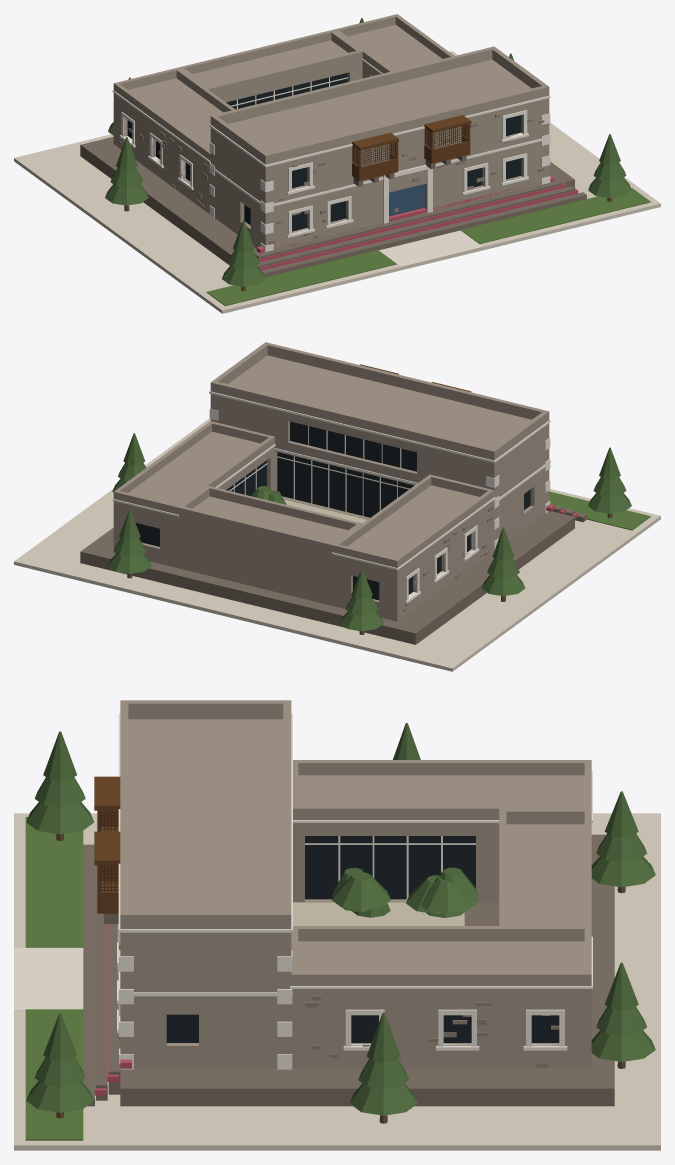
The model's file is taifi.glb.
3 views of the same model, one above another, from view 1: azimuth 30°, elevation 25°; view 2: azimuth 150°, elevation 25°; view 3: azimuth 270°, elevation 25° (orthographic). The views are drawn at different scales.
Parts seen in each view (by area): view 1: Taifi_granite, Taifi_pave, Taifi_granite_d, Taifi_white, Taifi_lawn, Taifi_leaf, Taifi_glass, Taifi_rose, Taifi_wood, Taifi_coping, Taifi_lattice, Taifi_rubble (+1 smaller); view 2: Taifi_granite, Taifi_pave, Taifi_granite_d, Taifi_glass, Taifi_leaf, Taifi_white, Taifi_lawn, Taifi_frame; view 3: Taifi_granite, Taifi_pave, Taifi_granite_d, Taifi_leaf, Taifi_lawn, Taifi_glass, Taifi_white, Taifi_coping, Taifi_wood, Taifi_court, Taifi_frame, Taifi_rose (+1 smaller).
Boxes of the visible parts, x1=… form: Taifi_granite: x1=113, y1=14, x2=549, y2=249; Taifi_pave: x1=14, y1=51, x2=660, y2=313; Taifi_granite_d: x1=80, y1=137, x2=586, y2=277; Taifi_white: x1=112, y1=58, x2=550, y2=251; Taifi_lawn: x1=206, y1=188, x2=650, y2=306; Taifi_leaf: x1=105, y1=18, x2=631, y2=286; Taifi_glass: x1=127, y1=73, x2=521, y2=231; Taifi_rose: x1=256, y1=175, x2=578, y2=270; Taifi_wood: x1=352, y1=115, x2=471, y2=181; Taifi_coping: x1=379, y1=230, x2=482, y2=266; Taifi_lattice: x1=352, y1=125, x2=468, y2=165; Taifi_rubble: x1=119, y1=113, x2=544, y2=245; Taifi_granite: x1=113, y1=342, x2=549, y2=621; Taifi_pave: x1=14, y1=418, x2=660, y2=671; Taifi_granite_d: x1=80, y1=504, x2=586, y2=644; Taifi_glass: x1=135, y1=421, x2=530, y2=600; Taifi_leaf: x1=108, y1=433, x2=631, y2=631; Taifi_white: x1=112, y1=390, x2=550, y2=603; Taifi_lawn: x1=549, y1=491, x2=650, y2=530; Taifi_frame: x1=229, y1=426, x2=414, y2=516; Taifi_granite: x1=120, y1=700, x2=591, y2=1068; Taifi_pave: x1=14, y1=813, x2=660, y2=1150; Taifi_granite_d: x1=83, y1=834, x2=614, y2=1106; Taifi_leaf: x1=26, y1=723, x2=655, y2=1115; Taifi_lawn: x1=25, y1=817, x2=83, y2=1140; Taifi_glass: x1=166, y1=836, x2=559, y2=1043; Taifi_white: x1=117, y1=713, x2=592, y2=1069; Taifi_coping: x1=14, y1=947, x2=83, y2=1010; Taifi_wood: x1=94, y1=776, x2=120, y2=913; Taifi_court: x1=293, y1=902, x2=464, y2=925; Taifi_frame: x1=305, y1=836, x2=475, y2=899; Taifi_rose: x1=95, y1=865, x2=131, y2=1095.
Bounding box in the file's own units: 34 × 8.45 × 28.
